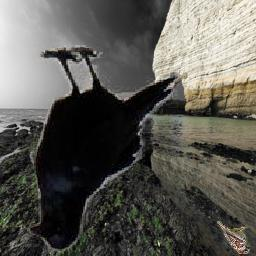Crow: (24, 45, 180, 253)
Sparrow: (218, 222, 251, 255)
